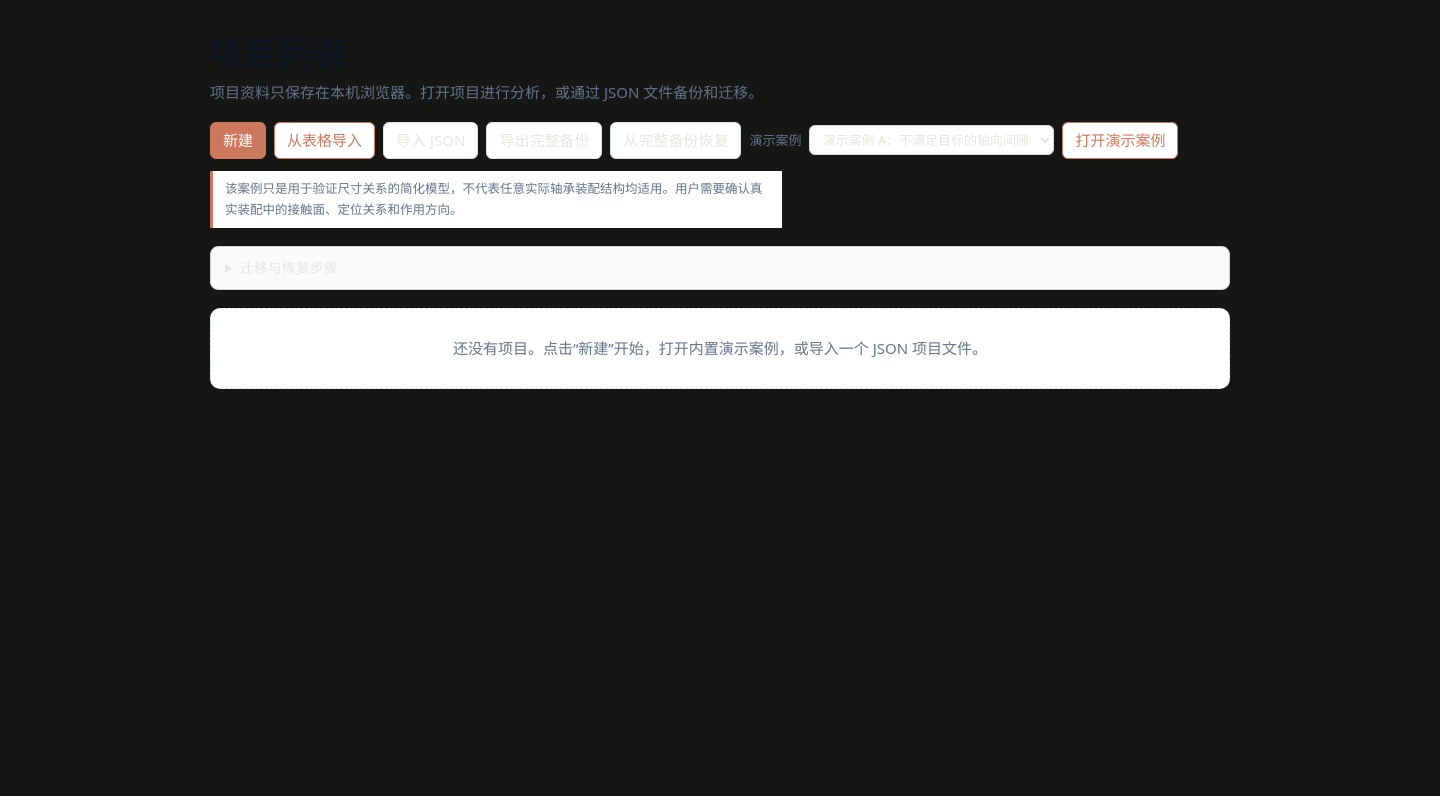
App：项目列表与工作台路由 › 从列表新建项目进入工作台，再返回列表
The width and height of the screenshot is (1440, 796).
Check: the text "还没有项目。点击“新建”开始，打开内置演示案例，或导入一个 JSON 项目文件。" is shown, box 453,338 -> 987,358
Click the button "新建".
click(238, 140)  # box 210,122 -> 266,159
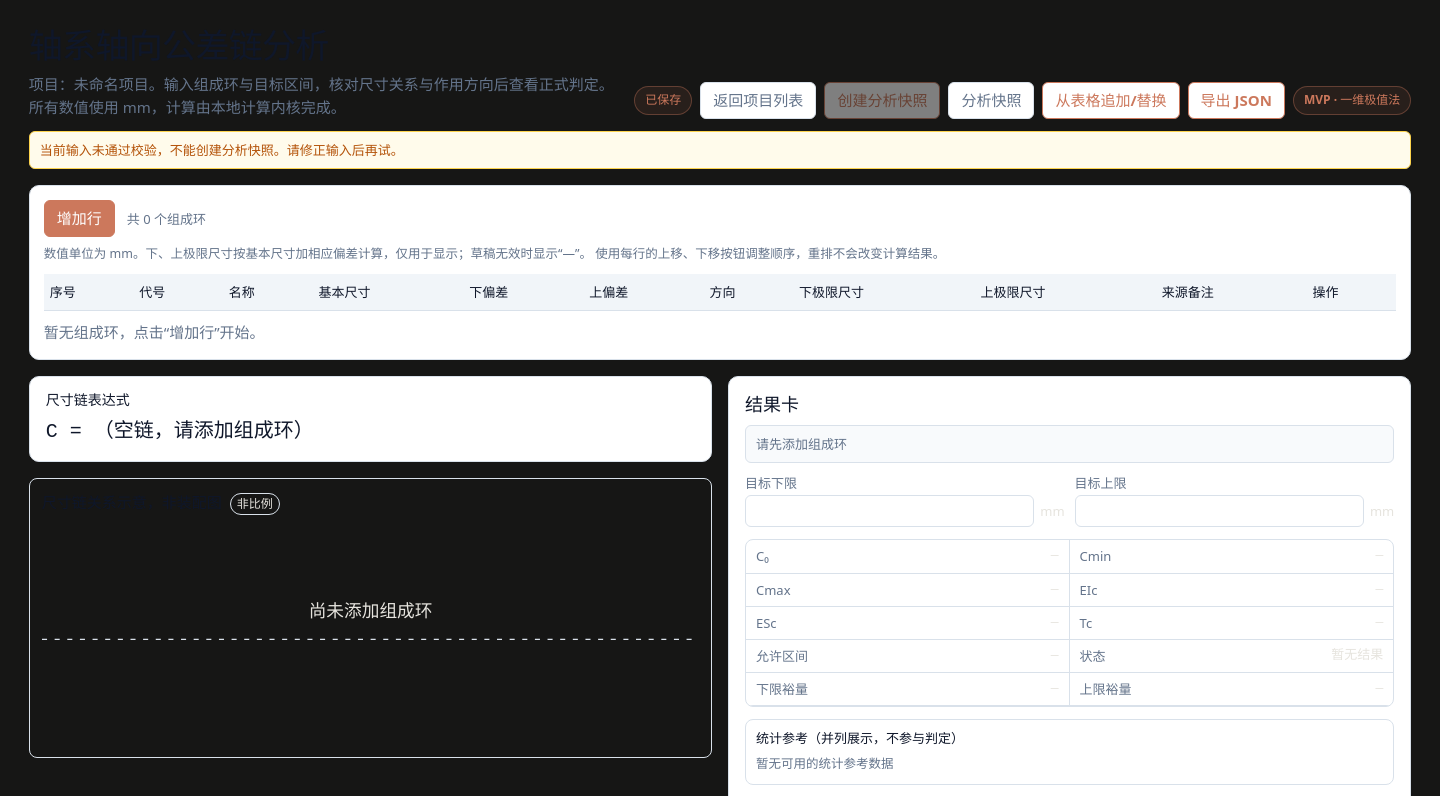
Check: the button "增加行" is shown, box 44,200 -> 115,237
Check: the button "返回项目列表" is shown
Click the button "返回项目列表".
click(758, 100)  # box 700,82 -> 816,119
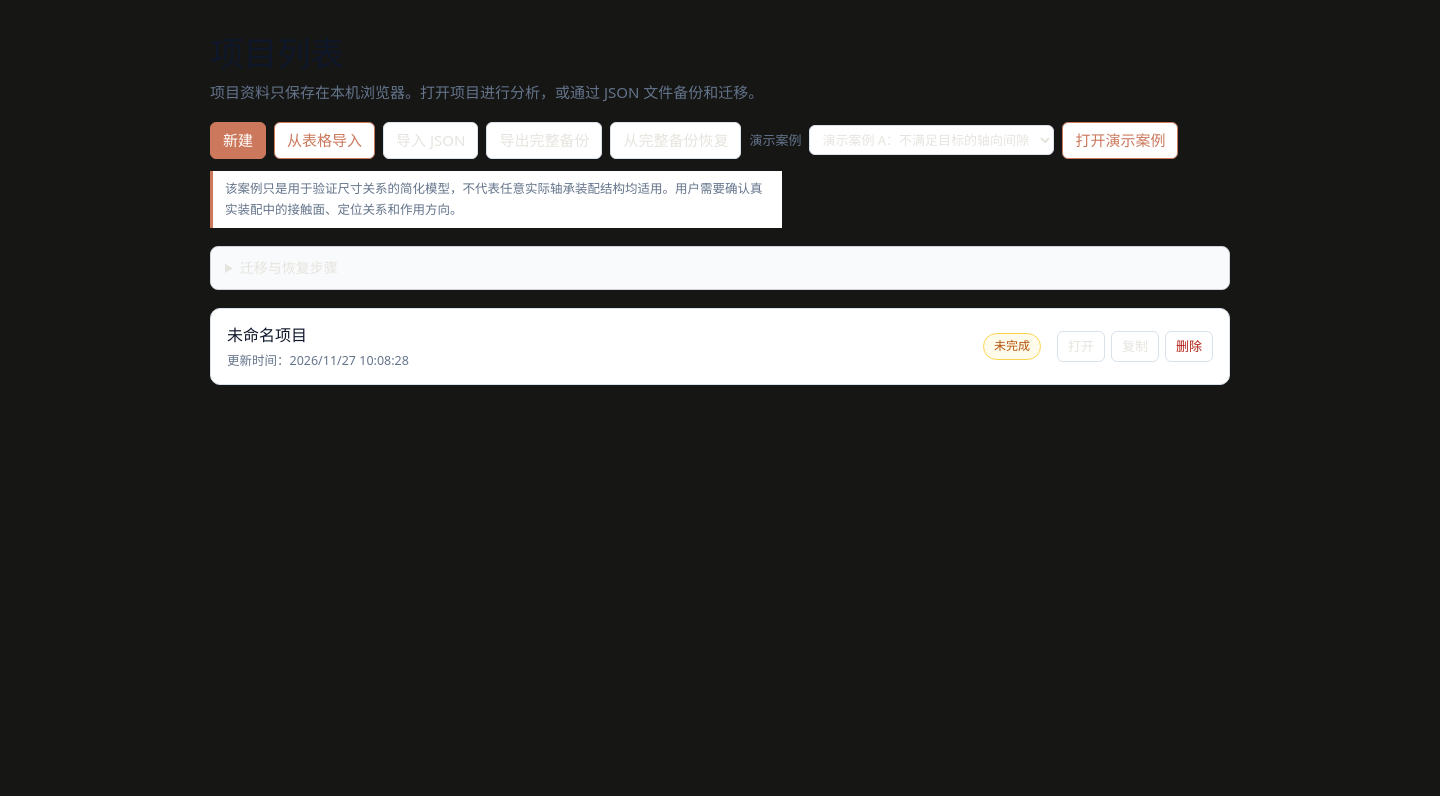
Check: the number of list items is 1, box 210,308 -> 1230,385
